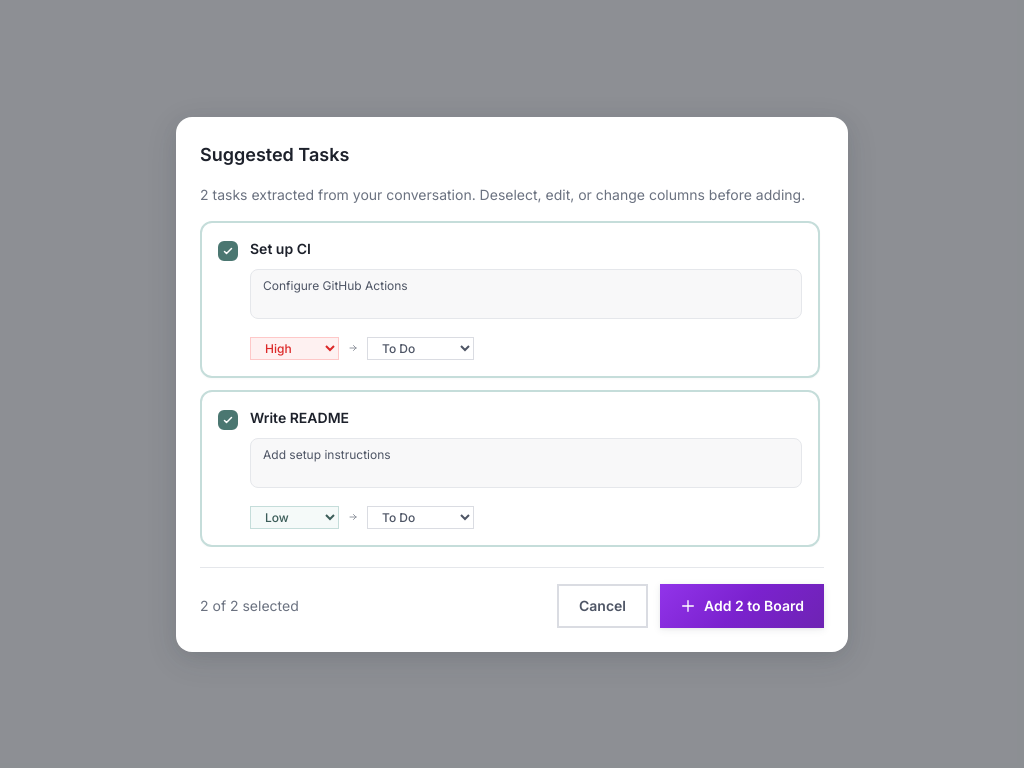
Test: AITaskModal › shows error when batch create fails
Click the button "Add 2 to Board" at point(742, 606), box [660, 584, 824, 628]
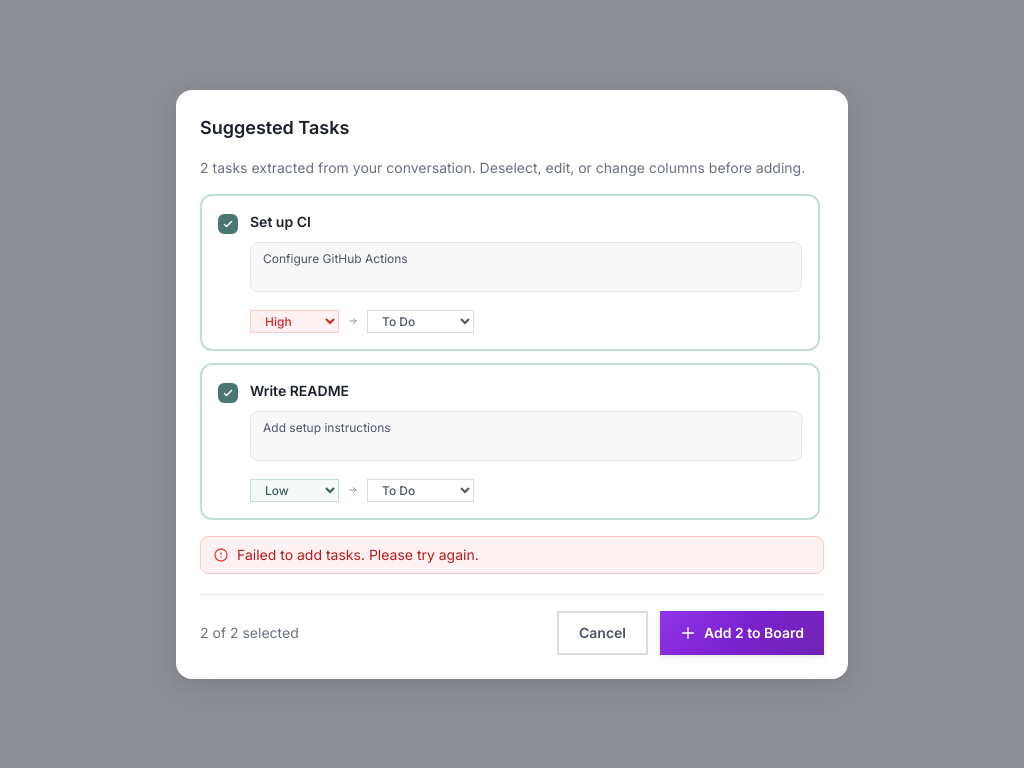
Expected: the button "Add 2 to Board" is enabled, [660, 610, 824, 654]
Expected: the text "Failed to add tasks. Please try again." is shown, [237, 544, 479, 564]
